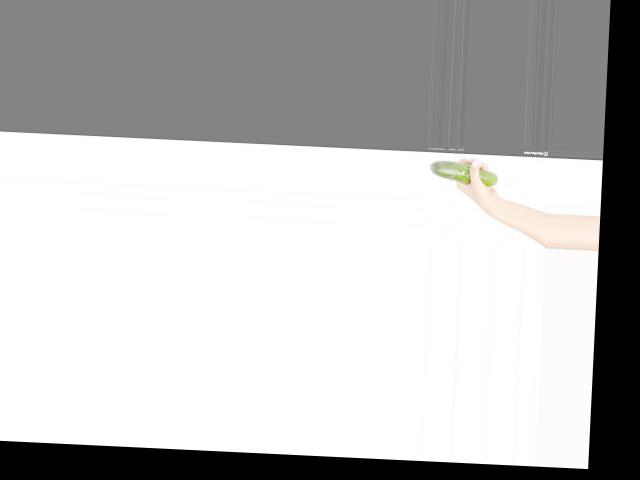cucumber: (428, 159, 497, 186)
